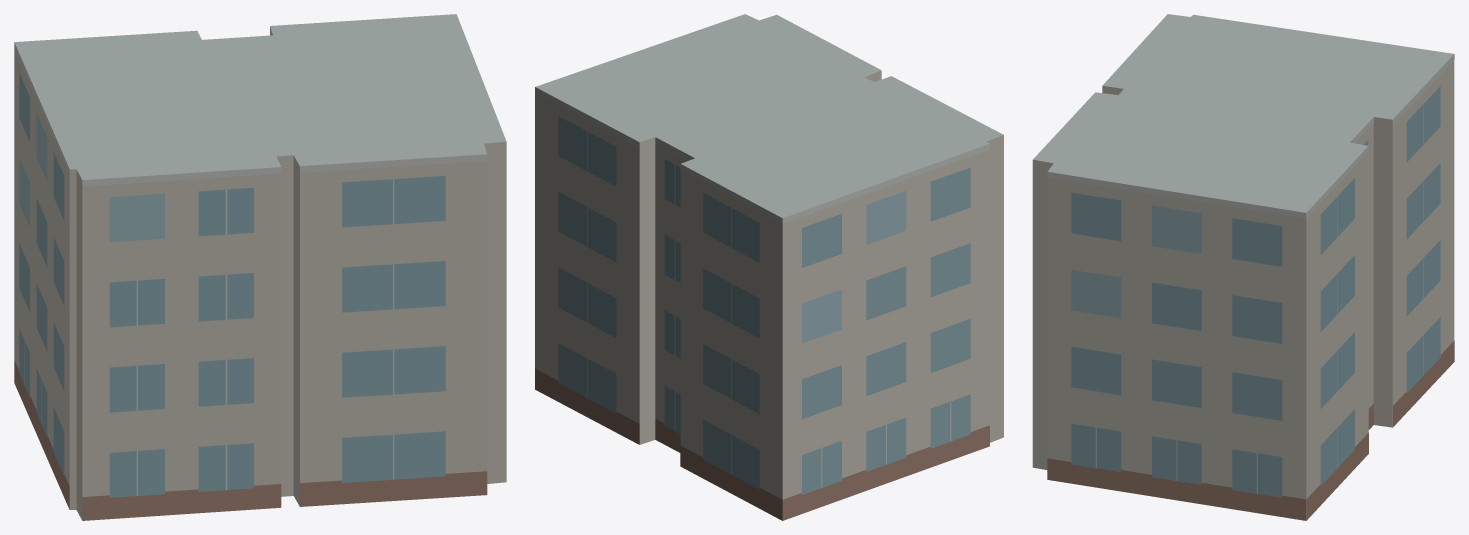
Rendered from survey-upis-32536937.glb.
3 views of the same model, side by side, from view 1: azimuth 30°, elevation 25°; view 2: azimuth 150°, elevation 25°; view 3: azimuth 270°, elevation 25° (orthographic). The views are drawn at different scales.
Visible parts, largest first — view 1: survey-upis-32536937.tmp; view 2: survey-upis-32536937.tmp; view 3: survey-upis-32536937.tmp.
Part boxes in pixels (x1=…): survey-upis-32536937.tmp: x1=14, y1=14, x2=506, y2=520; survey-upis-32536937.tmp: x1=535, y1=14, x2=1003, y2=520; survey-upis-32536937.tmp: x1=1032, y1=14, x2=1454, y2=520.
Size of the model in its own units: 17.67 by 12.75 by 15.83.
